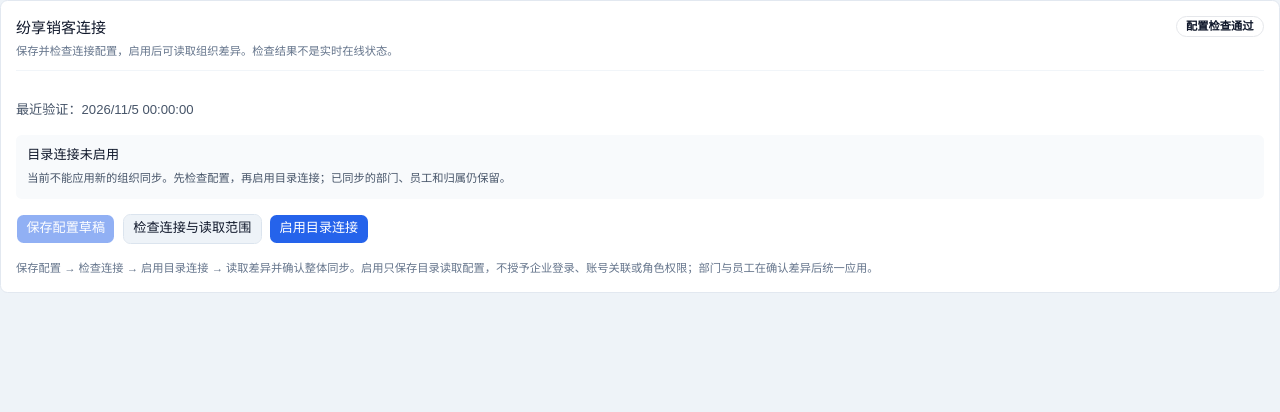
requires a successful draft check and shows activation failures without claiming success
Click the button "启用目录连接": [319, 228] box [269, 214, 369, 244]
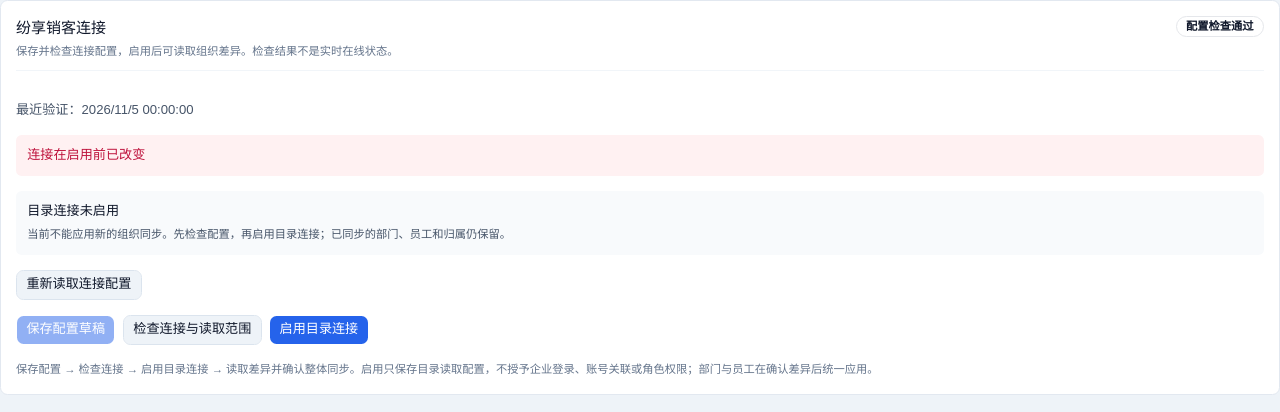
expect the message reads "连接在启用前已改变": met, box [27, 147, 145, 162]
expect the button "重新读取连接配置" is enabled: met, box [16, 270, 142, 300]
